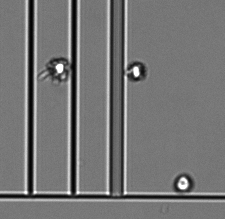Living Cell: (48, 57, 71, 81), (173, 173, 194, 193), (128, 60, 147, 81)
